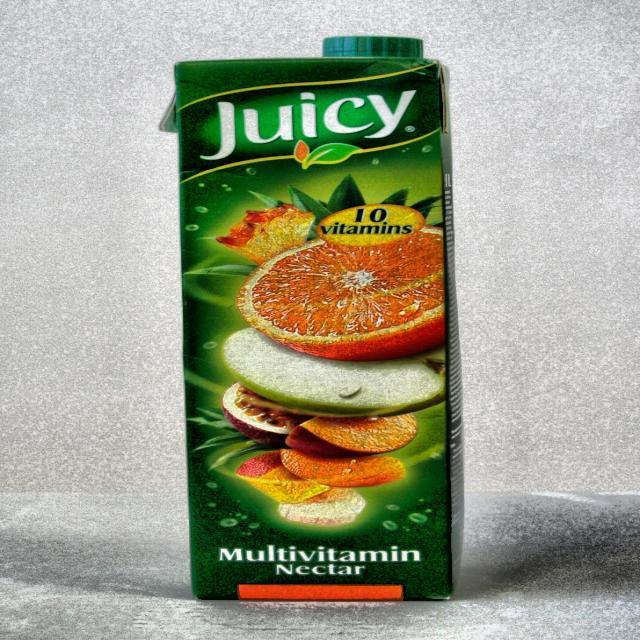cardboard: (162, 52, 464, 601)
